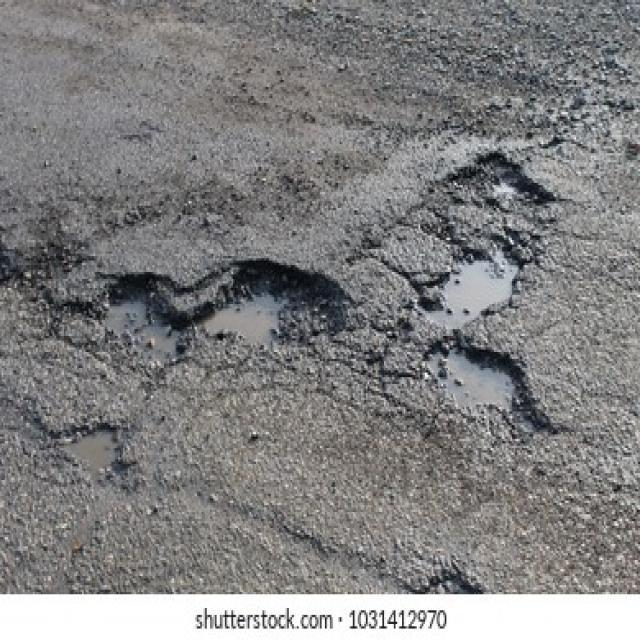Pothole: (198, 254, 352, 356), (423, 338, 553, 437), (417, 236, 527, 332), (94, 270, 190, 372), (450, 148, 554, 212), (0, 236, 77, 306), (56, 418, 125, 480), (416, 566, 486, 594)
